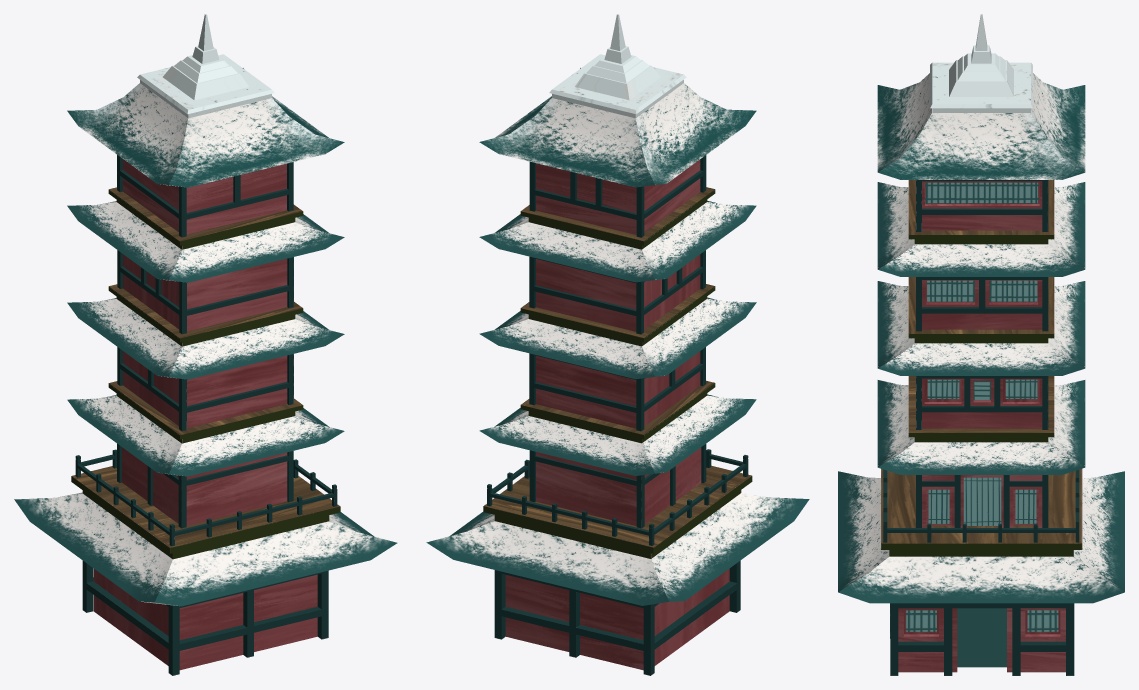
File: EdificioArquitectura (1).fbx
The picture shows the model from 3 angles, left to right: view 1: azimuth 30°, elevation 25°; view 2: azimuth 150°, elevation 25°; view 3: azimuth 270°, elevation 25°; orthographic projection. The views are drawn at different scales.
Parts seen in each view (by area): view 1: Cube.018, Cube, Cube.020; view 2: Cube.018, Cube, Cube.020; view 3: Cube.018, Cube, Cube.020.
Boxes of the visible parts, x1=… form: Cube.018: x1=14, y1=14, x2=397, y2=675; Cube: x1=93, y1=159, x2=317, y2=670; Cube.020: x1=71, y1=187, x2=340, y2=559; Cube.018: x1=426, y1=14, x2=809, y2=675; Cube: x1=505, y1=159, x2=729, y2=670; Cube.020: x1=483, y1=187, x2=752, y2=558; Cube.018: x1=838, y1=14, x2=1124, y2=675; Cube: x1=898, y1=181, x2=1065, y2=672; Cube.020: x1=881, y1=180, x2=1082, y2=556.
Bounding box in the file's own units: 2986 × 7152 × 2986.
